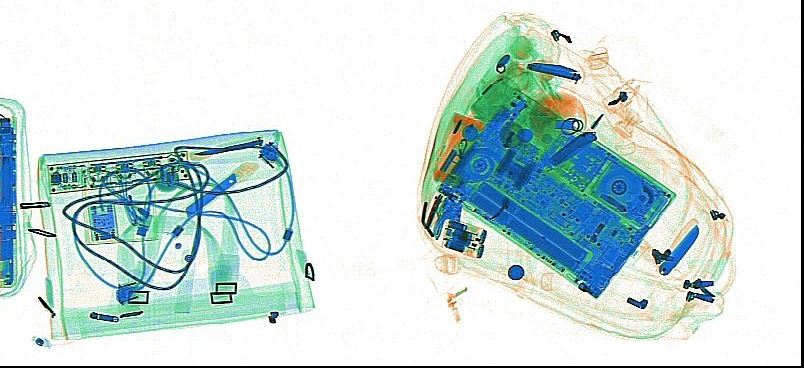knife: (657, 219, 699, 275), (184, 171, 235, 217), (189, 136, 262, 160), (549, 131, 597, 165), (526, 62, 581, 80)
